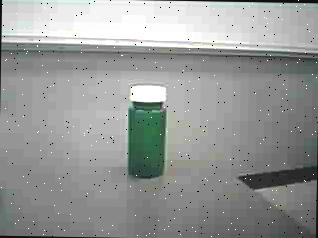Bottle C: (110, 79, 181, 186)
